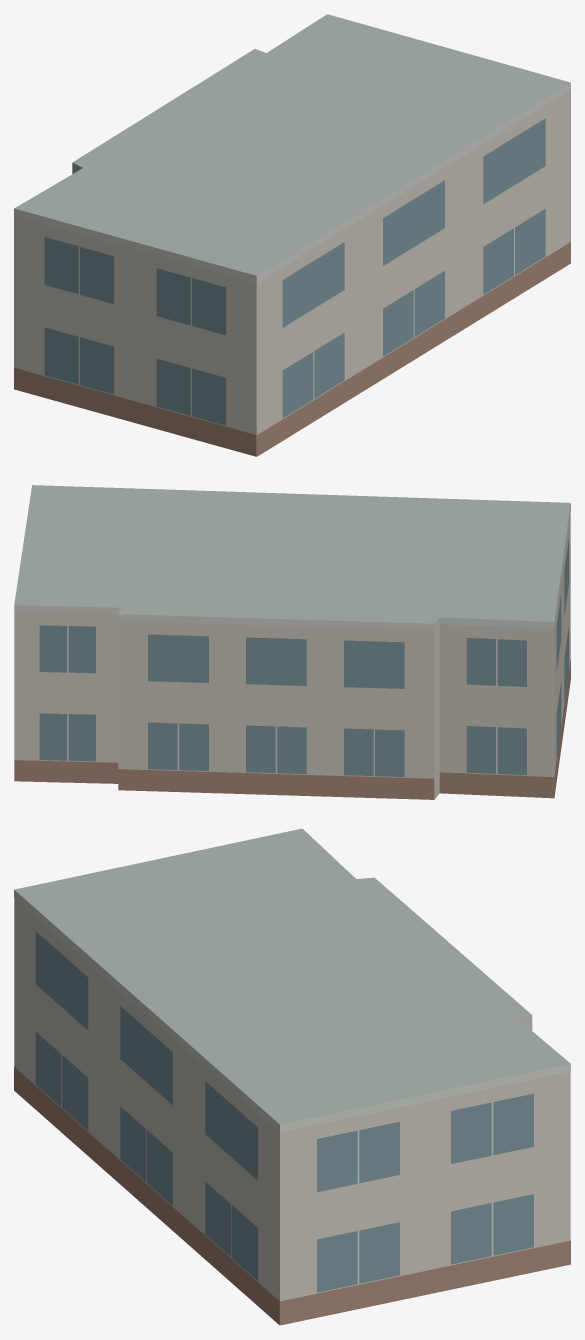
Rendered from survey-upis-32510922.glb.
3 renders of one model, top to bottom at view 1: azimuth 30°, elevation 25°; view 2: azimuth 150°, elevation 25°; view 3: azimuth 270°, elevation 25°, orthographic. The views are drawn at different scales.
Parts seen in each view (by area): view 1: survey-upis-32510922.tmp; view 2: survey-upis-32510922.tmp; view 3: survey-upis-32510922.tmp.
Boxes of the visible parts, box(x1,y1,x2,y2) form: survey-upis-32510922.tmp: box(14, 14, 570, 456); survey-upis-32510922.tmp: box(14, 485, 570, 799); survey-upis-32510922.tmp: box(14, 828, 570, 1325).
Size of the model in its own units: 19.3 by 6.1 by 15.33.
